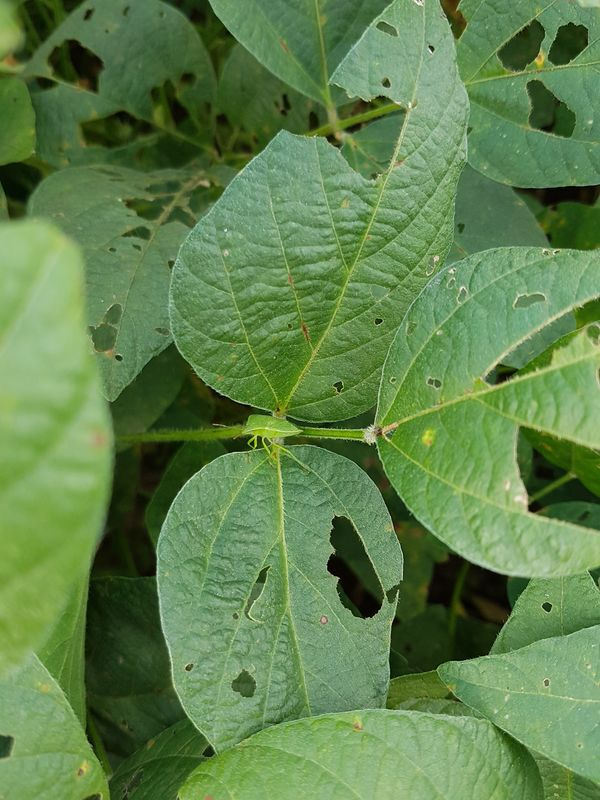Nezara_viridula_adulto: (207, 402, 323, 483)
